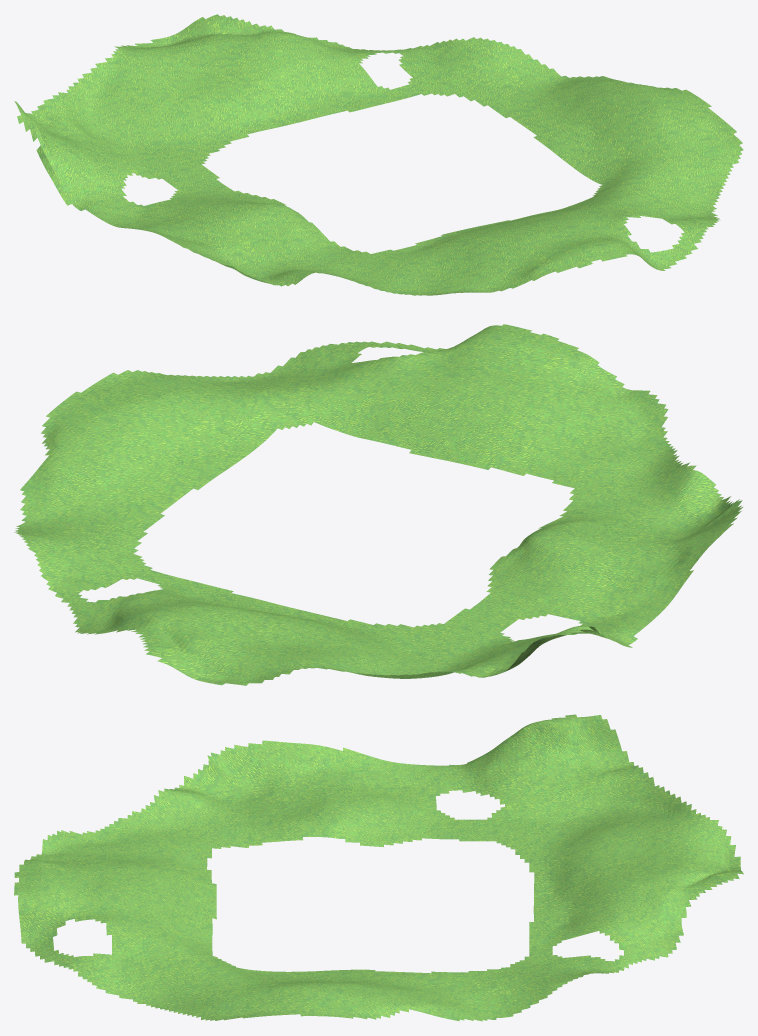
The model's file is grassLevel2Holes.obj.
3 views of the same model, one above another, from view 1: azimuth 30°, elevation 25°; view 2: azimuth 150°, elevation 25°; view 3: azimuth 270°, elevation 25° (orthographic). The views are drawn at different scales.
Parts seen in each view (by area): view 1: Plane.002_Plane.008; view 2: Plane.002_Plane.008; view 3: Plane.002_Plane.008.
Boxes of the visible parts, x1=… form: Plane.002_Plane.008: x1=14, y1=14, x2=743, y2=295; Plane.002_Plane.008: x1=14, y1=324, x2=742, y2=685; Plane.002_Plane.008: x1=14, y1=714, x2=743, y2=1021.
Size of the model in its own units: 133 by 13.61 by 147.
